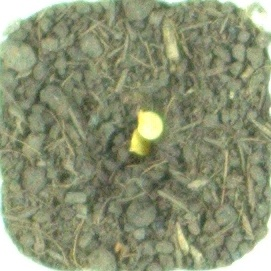pepper seed: (48, 48, 205, 206), (53, 39, 218, 179)
